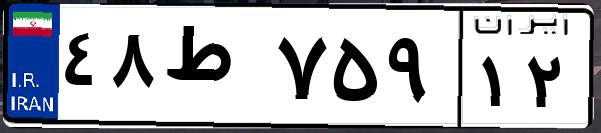1: (475, 38, 525, 113)
2: (525, 38, 570, 115)
4: (57, 26, 110, 100)
5: (330, 28, 385, 110)
7: (270, 28, 330, 110)
8: (110, 28, 158, 98)
9: (385, 28, 445, 110)
ط: (158, 20, 270, 120)
